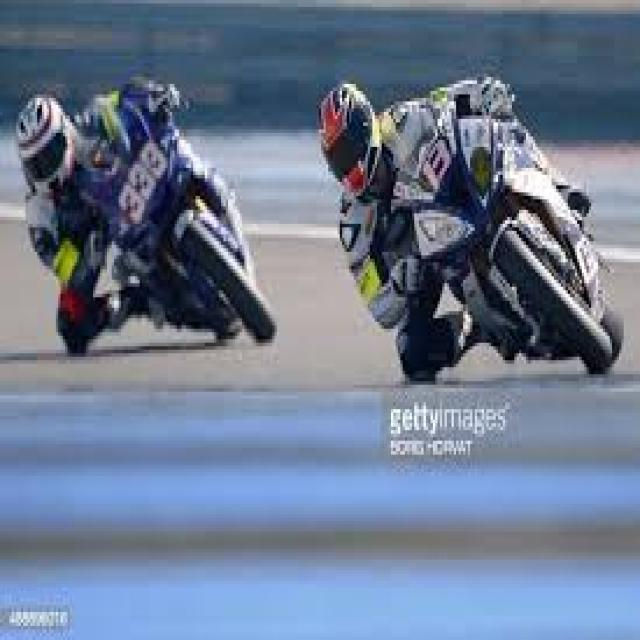Bike: (394, 91, 627, 373), (76, 76, 278, 345)
